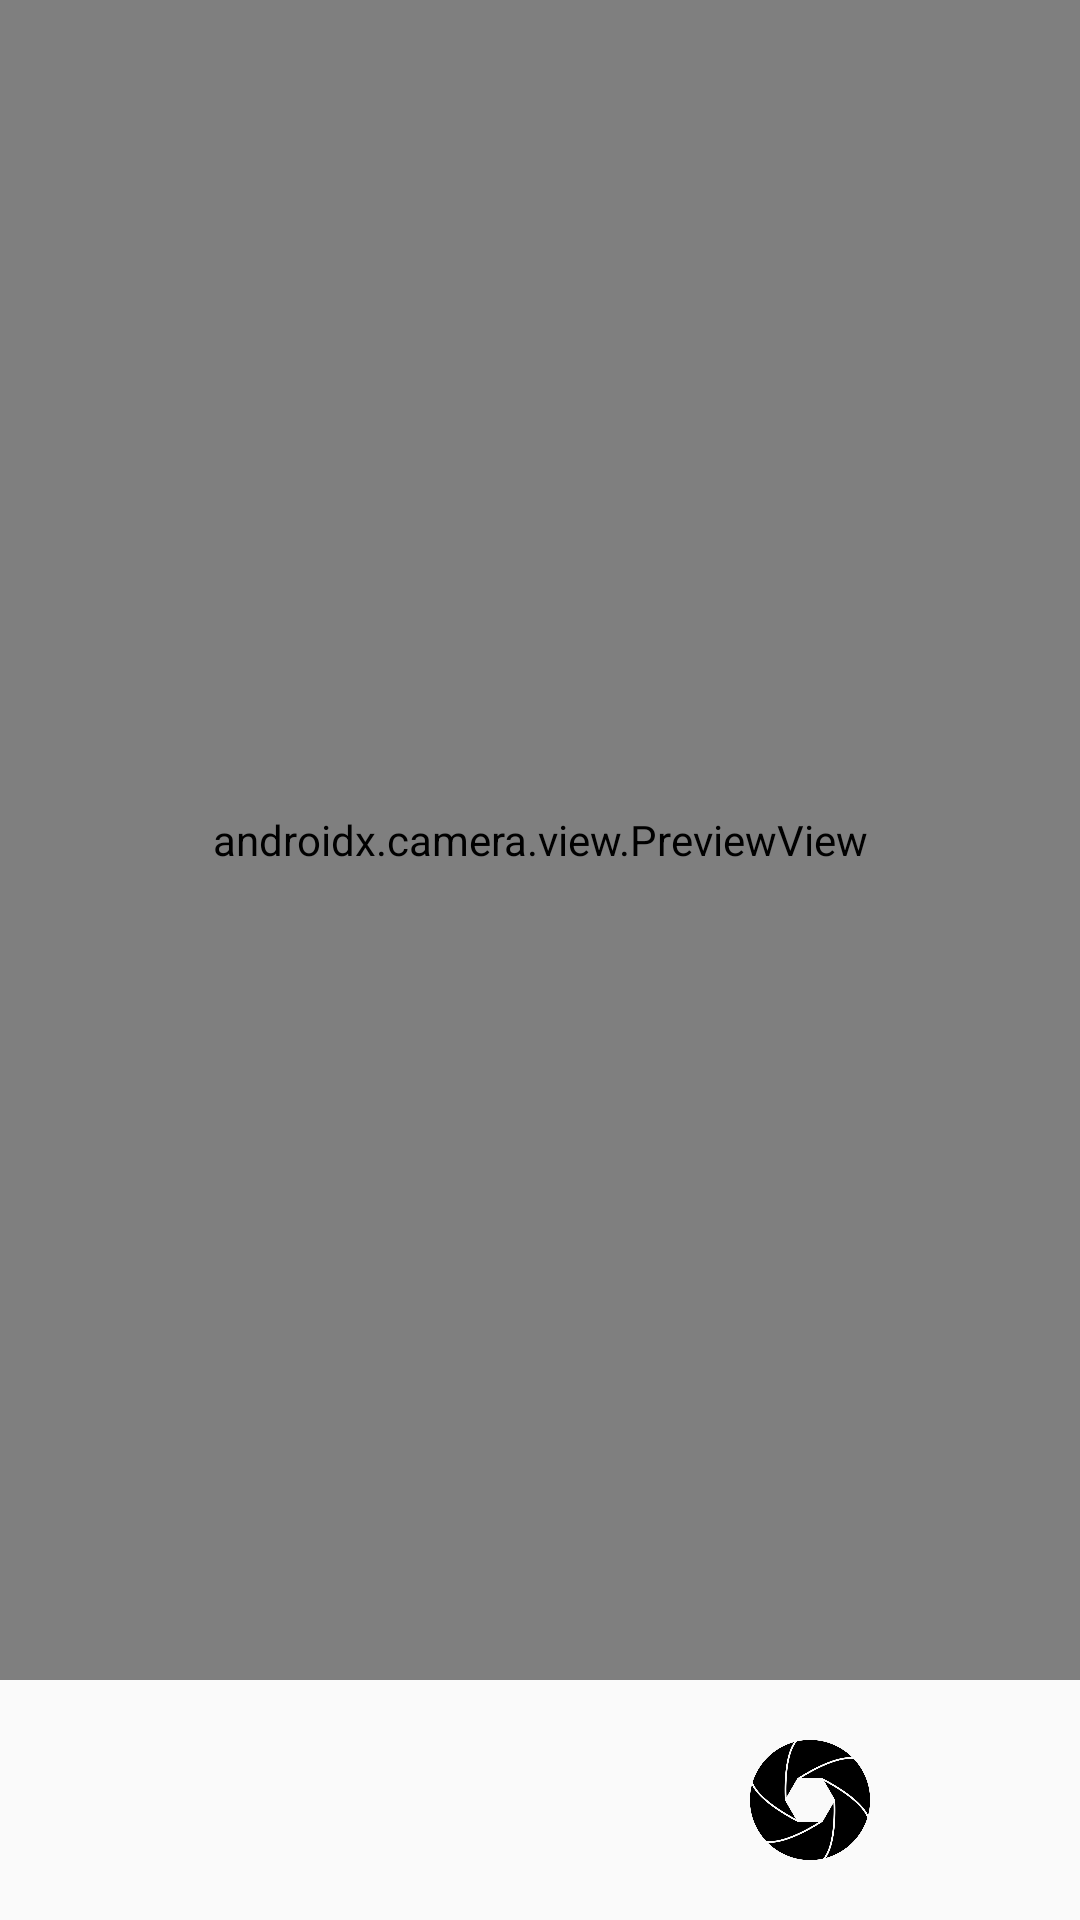

Icons on this 1080w x 1920h Android screen, each with the point to tap as point (x, y):
Zajemi: point (810, 1800)
